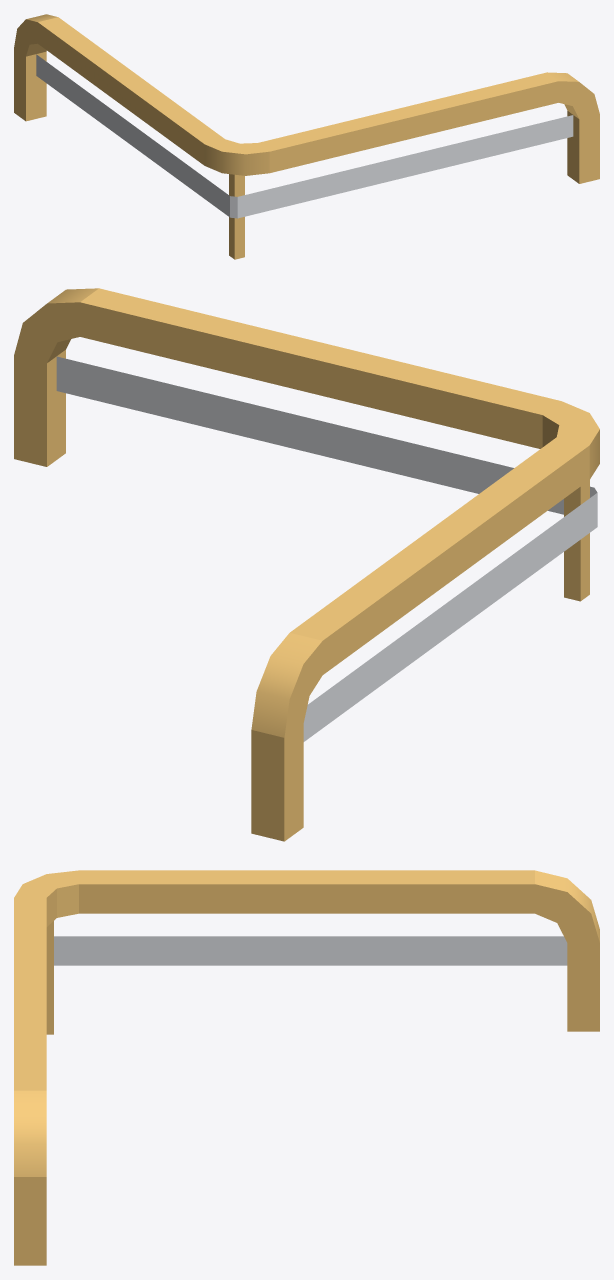
Rendered from rail_corner.glb.
The picture shows the model from 3 angles, top to bottom: view 1: azimuth 30°, elevation 25°; view 2: azimuth 150°, elevation 25°; view 3: azimuth 270°, elevation 25°; orthographic projection. The views are drawn at different scales.
Parts seen in each view (by area): view 1: rail_corner; view 2: rail_corner; view 3: rail_corner.
Boxes of the visible parts, x1=… form: rail_corner: x1=14, y1=14, x2=599, y2=259; rail_corner: x1=14, y1=288, x2=599, y2=841; rail_corner: x1=14, y1=870, x2=599, y2=1265.
Size of the model in its own units: 0.9 by 0.25 by 0.9.
